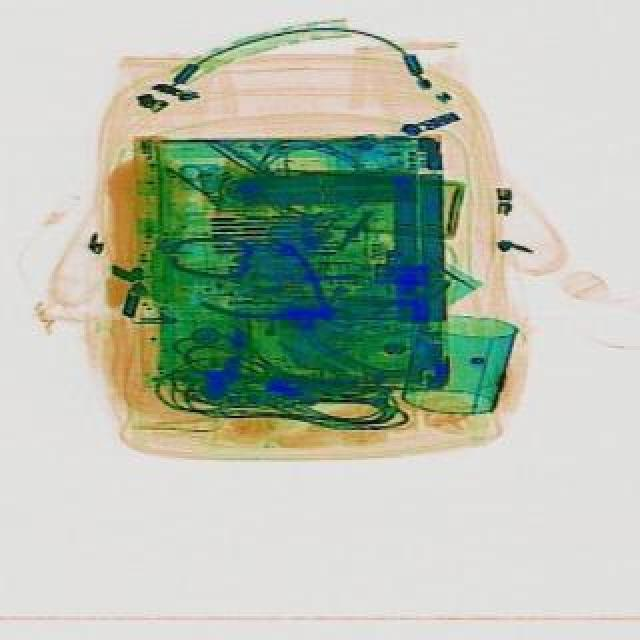wrench: (204, 232, 380, 366)
